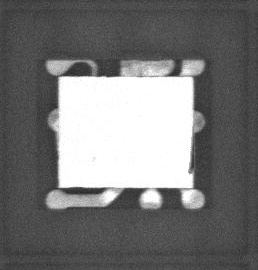DIE_BROKEN: (187, 123, 196, 175)
